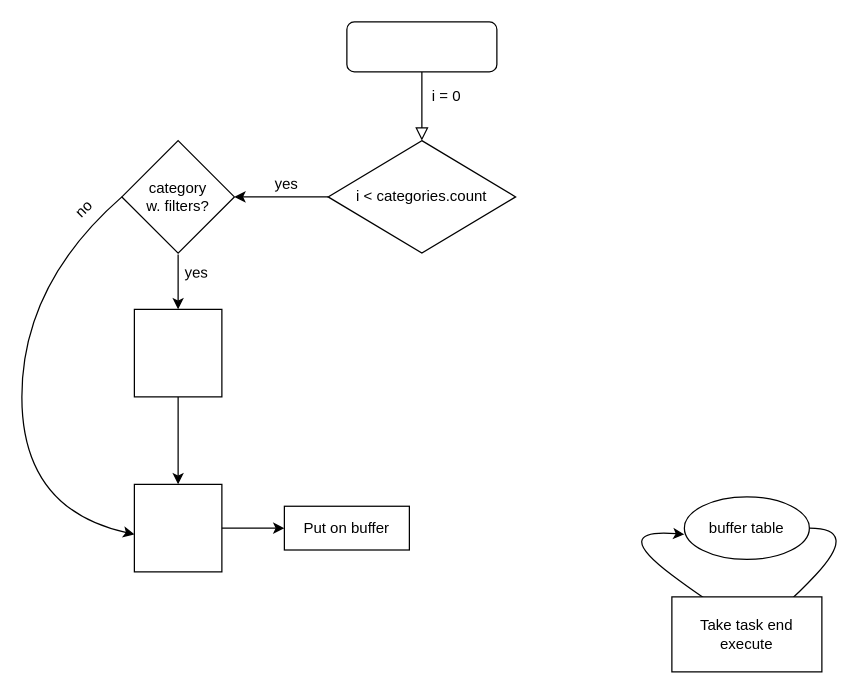
This 859x694 diagram has some shape labels left out. The shapes that lost their labels are listed below. From the top down, each one's centre as x and y in pixels, then its label:
the point at 421,46: Get categories
the point at 177,352: for each category with filter
the point at 177,527: Create task object
